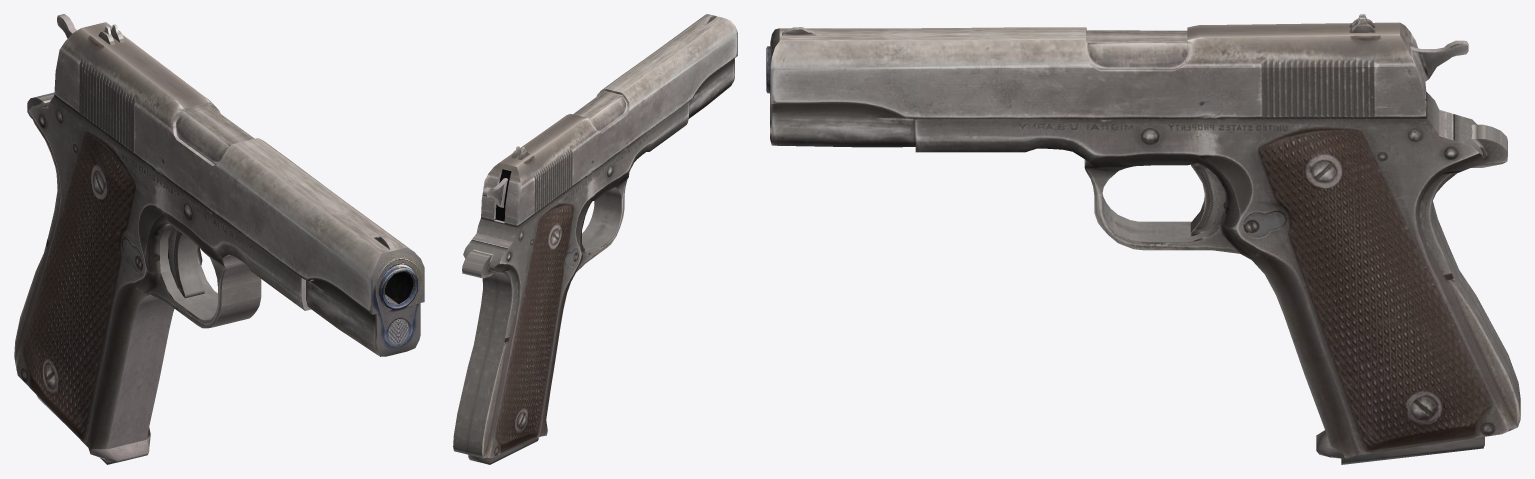
Rendered from Gun.FBX.
3 views of the same model, side by side, from view 1: azimuth 30°, elevation 25°; view 2: azimuth 150°, elevation 25°; view 3: azimuth 270°, elevation 25° (orthographic). The views are drawn at different scales.
Visible parts, largest first — view 1: gunbody, slidetrigger; view 2: gunbody, slidetrigger; view 3: gunbody, slidetrigger.
Boxes of the visible parts, left/top/right/bottom form: gunbody: left=14, top=14, right=420, bottom=464; slidetrigger: left=54, top=22, right=424, bottom=314; gunbody: left=453, top=58, right=734, bottom=464; slidetrigger: left=481, top=14, right=737, bottom=226; gunbody: left=766, top=40, right=1520, bottom=464; slidetrigger: left=770, top=14, right=1426, bottom=118.
Bounding box in the file's own units: 3321 × 21340 × 33011.
Materials: 1 (1 with a texture image).
